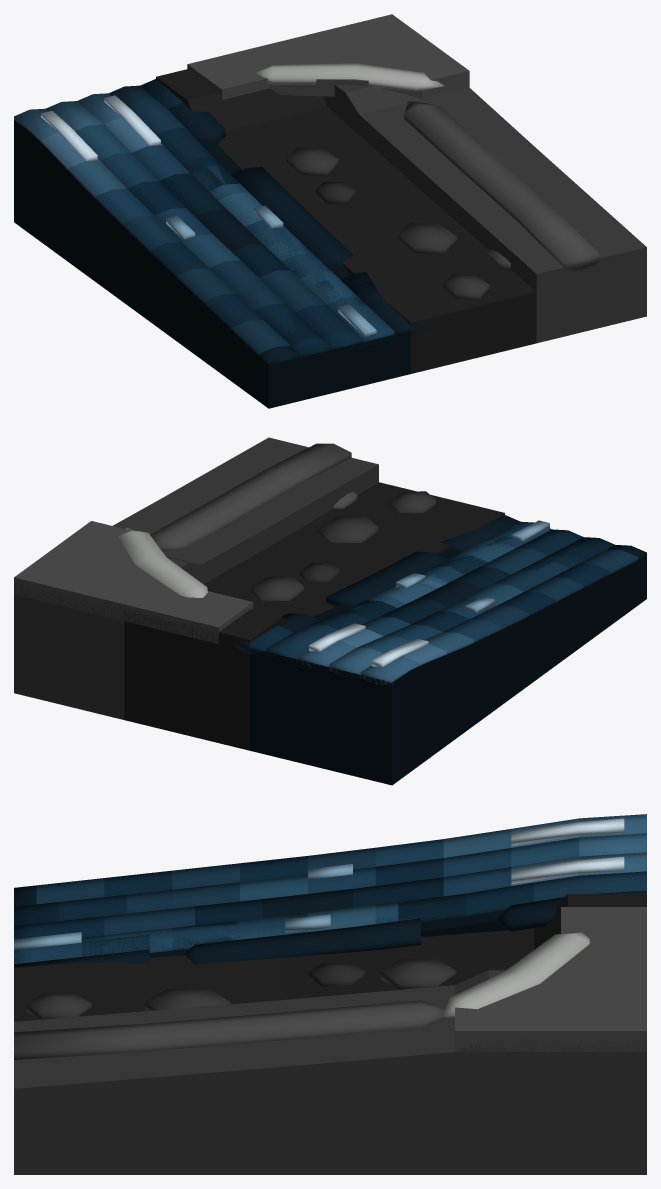
Rendered from newshh-153.glb.
3 renders of one model, top to bottom at view 1: azimuth 30°, elevation 25°; view 2: azimuth 150°, elevation 25°; view 3: azimuth 270°, elevation 25°, orthographic. The views are drawn at different scales.
Parts seen in each view (by area): view 1: newshh-153, newshh-153-water-153, newshh-153-water-169, newshh-153-water-244; view 2: newshh-153, newshh-153-water-153, newshh-153-water-169, newshh-153-water-244, newshh-153-water-238; view 3: newshh-153, newshh-153-water-153, newshh-153-water-169, newshh-153-water-244, newshh-153-water-238.
Part boxes in pixels (box(x1,y1,x2,y2)): newshh-153: box(14, 14, 646, 408); newshh-153-water-153: box(14, 79, 400, 365); newshh-153-water-169: box(182, 157, 425, 354); newshh-153-water-244: box(253, 205, 376, 337); newshh-153: box(14, 437, 646, 785); newshh-153-water-153: box(235, 520, 646, 685); newshh-153-water-169: box(341, 515, 614, 619); newshh-153-water-244: box(396, 520, 549, 589); newshh-153-water-238: box(433, 555, 488, 579); newshh-153: box(14, 894, 646, 1174); newshh-153-water-153: box(14, 814, 646, 965); newshh-153-water-169: box(14, 890, 465, 967); newshh-153-water-244: box(14, 914, 330, 949); newshh-153-water-238: box(172, 920, 262, 950).
Bounding box in the file's own units: 2 × 0.61 × 2.33.
